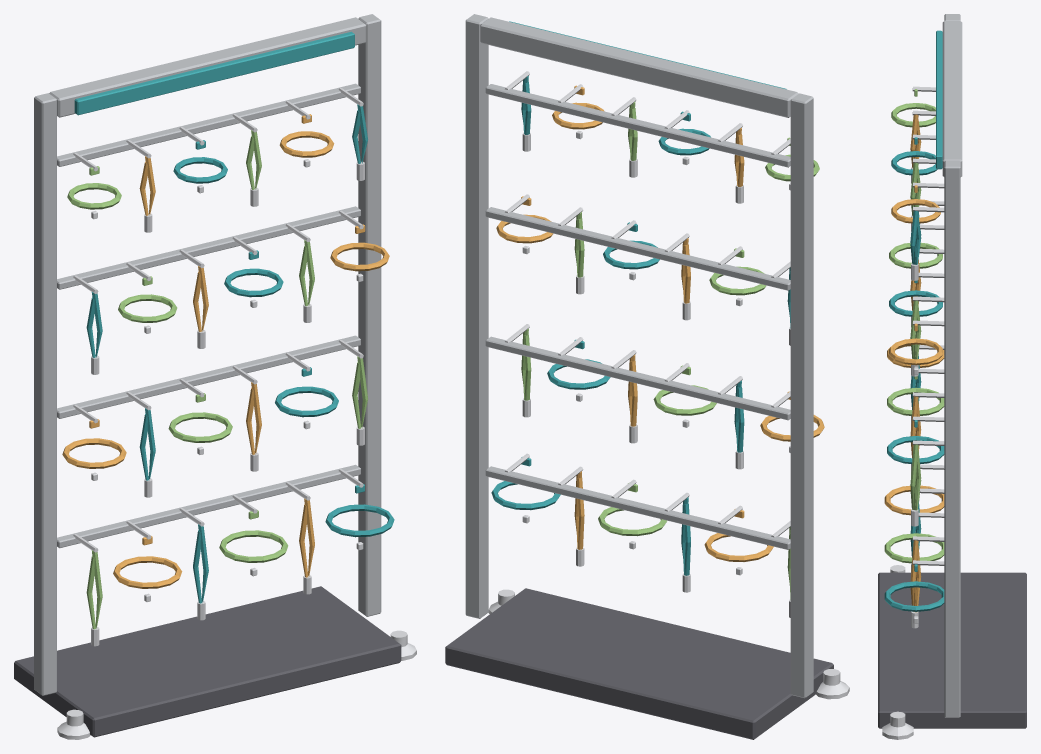
The model's file is pet-shop-and-grooming-salon-accessory-rail-4ada6ffa__34571.glb.
3 views of the same model, side by side, from view 1: azimuth 30°, elevation 25°; view 2: azimuth 150°, elevation 25°; view 3: azimuth 270°, elevation 25° (orthographic). The views are drawn at different scales.
Visible parts, largest first — view 1: accessory-rail; view 2: accessory-rail; view 3: accessory-rail.
Boxes of the visible parts, x1,y1,x2,y2 form: accessory-rail: [14, 14, 416, 739]; accessory-rail: [445, 14, 849, 739]; accessory-rail: [878, 14, 1026, 739].
Bounding box in the file's own units: 1.15 × 1.9 × 0.45.
